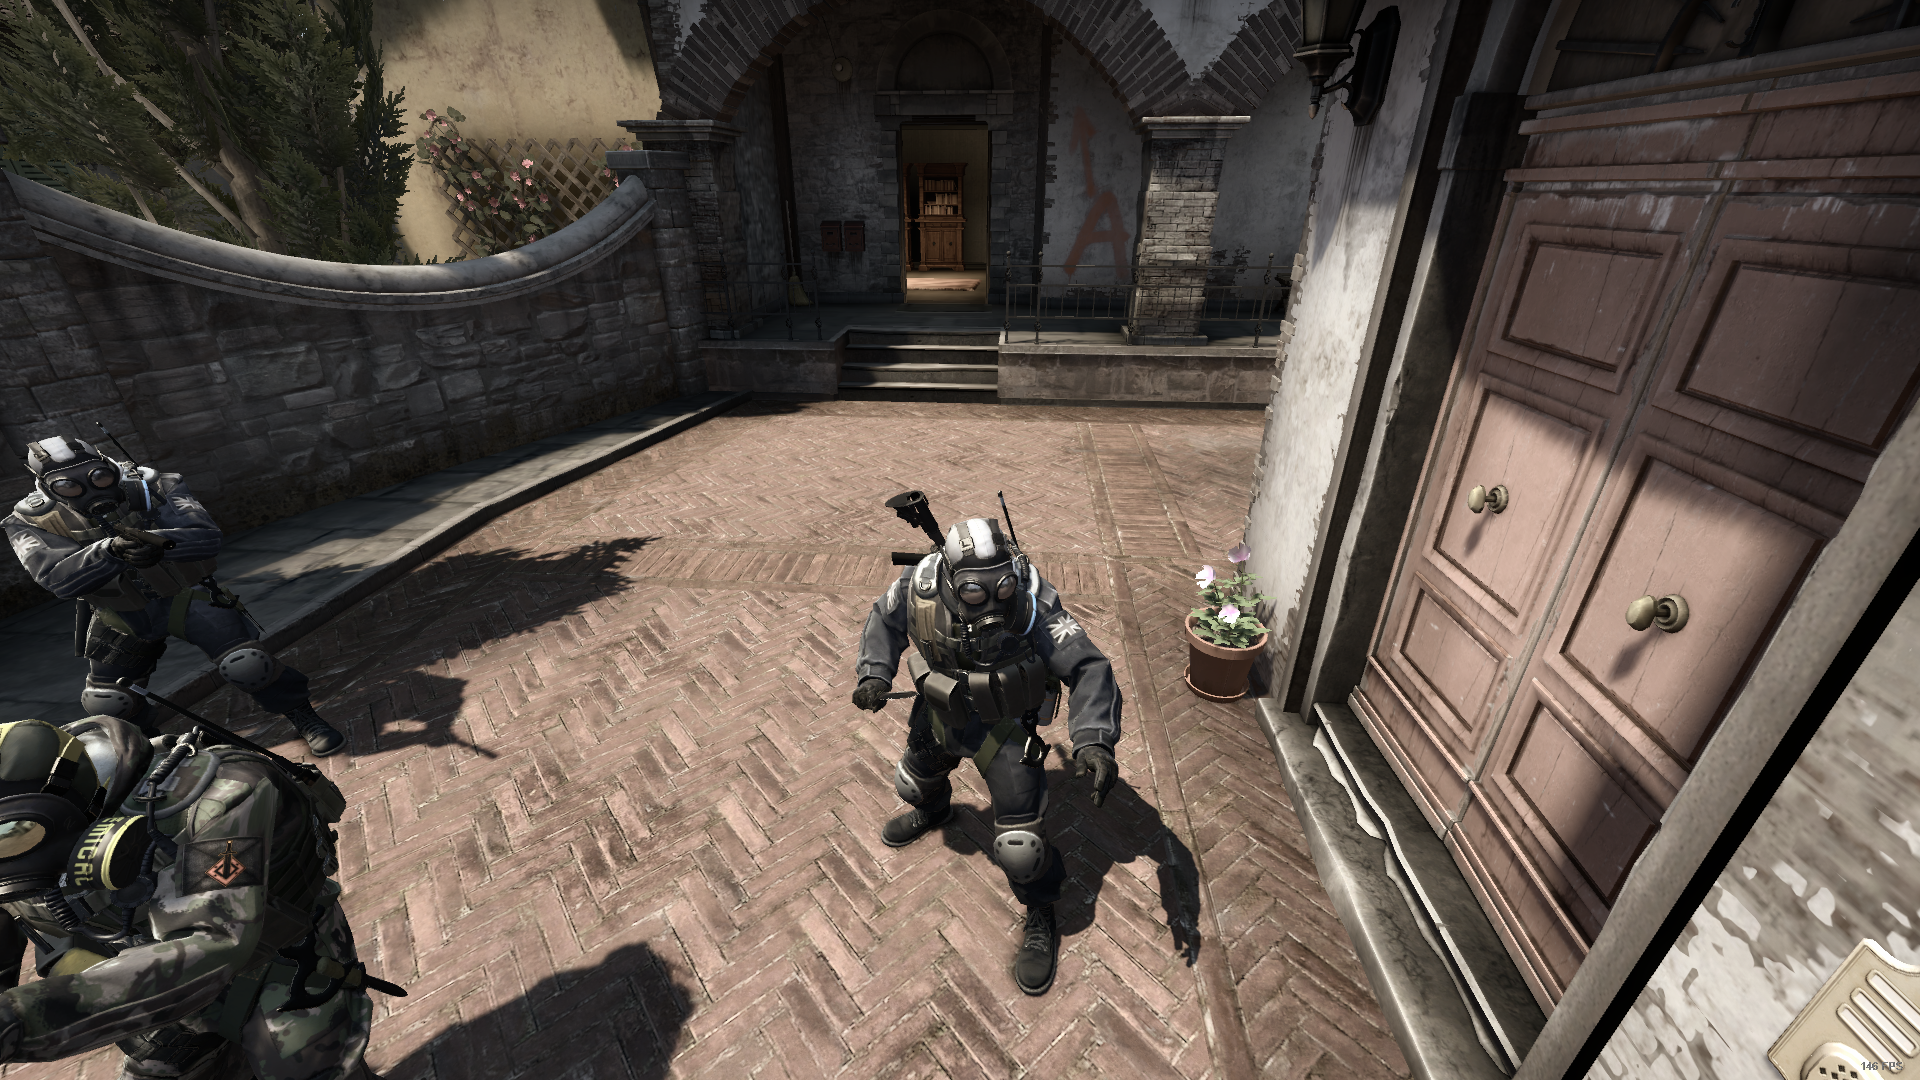ct: (840, 506, 1142, 998), (11, 433, 338, 761)
